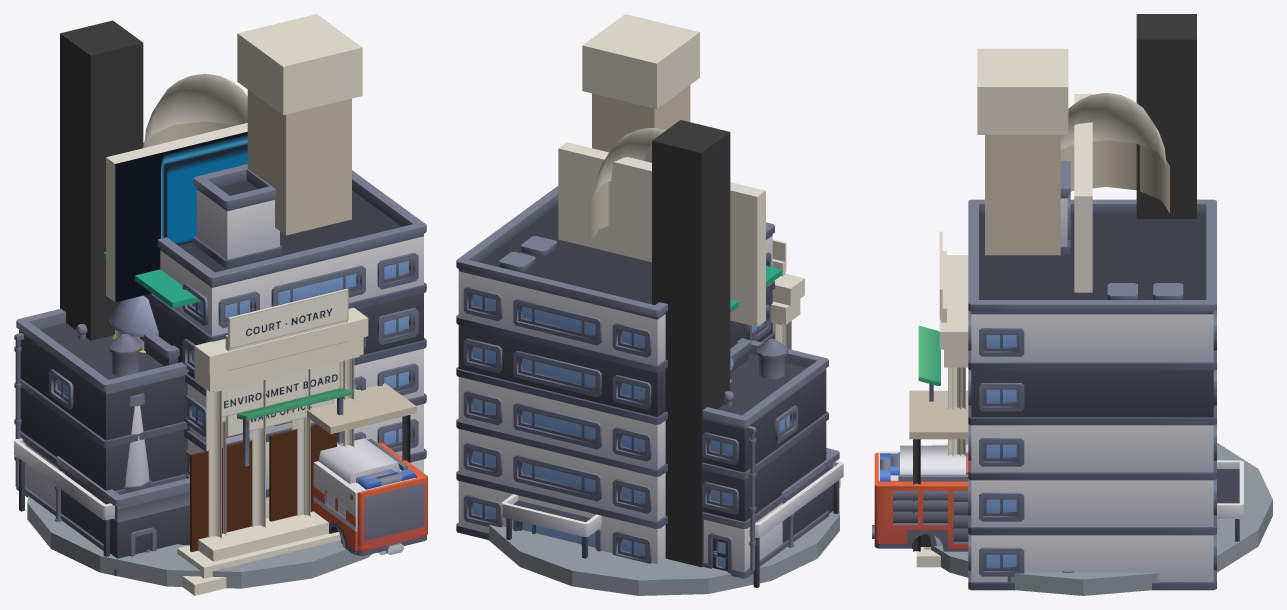
Rendered from stations.glb.
The picture shows the model from 3 angles, left to right: view 1: azimuth 30°, elevation 25°; view 2: azimuth 150°, elevation 25°; view 3: azimuth 270°, elevation 25°; orthographic projection. The views are drawn at different scales.
Visible parts, largest first — view 1: fire_services, municipal_hq, ward_office, court_or_notary, online_portal, pollution_control_board, health_department, milestone, revenue_office, utility_provider, labour_department; view 2: municipal_hq, fire_services, online_portal, ward_office, milestone, pollution_control_board, court_or_notary, revenue_office; view 3: municipal_hq, fire_services, ward_office, milestone, health_department, court_or_notary, online_portal, labour_department, revenue_office.
Boxes of the visible parts, x1=… form: fire_services: x1=14, y1=20, x2=427, y2=555; municipal_hq: x1=14, y1=73, x2=426, y2=556; ward_office: x1=226, y1=14, x2=362, y2=436; court_or_notary: x1=177, y1=288, x2=368, y2=595; online_portal: x1=106, y1=123, x2=247, y2=302; pollution_control_board: x1=55, y1=252, x2=340, y2=576; health_department: x1=140, y1=334, x2=416, y2=555; milestone: x1=27, y1=496, x2=371, y2=588; revenue_office: x1=184, y1=335, x2=363, y2=537; utility_provider: x1=109, y1=295, x2=158, y2=352; labour_department: x1=237, y1=388, x2=352, y2=466; municipal_hq: x1=456, y1=128, x2=843, y2=587; fire_services: x1=652, y1=120, x2=828, y2=578; online_portal: x1=558, y1=142, x2=765, y2=326; ward_office: x1=582, y1=14, x2=699, y2=162; milestone: x1=488, y1=511, x2=839, y2=595; pollution_control_board: x1=730, y1=265, x2=839, y2=547; court_or_notary: x1=772, y1=239, x2=840, y2=487; revenue_office: x1=771, y1=259, x2=800, y2=348; municipal_hq: x1=941, y1=92, x2=1243, y2=590; fire_services: x1=872, y1=14, x2=1196, y2=551; ward_office: x1=977, y1=48, x2=1068, y2=255; milestone: x1=911, y1=439, x2=1272, y2=595; health_department: x1=878, y1=390, x2=968, y2=551; court_or_notary: x1=916, y1=231, x2=968, y2=567; online_portal: x1=1074, y1=94, x2=1092, y2=292; labour_department: x1=918, y1=325, x2=940, y2=401; revenue_office: x1=944, y1=251, x2=968, y2=456.
Size of the model in its own units: 2.5 by 3.45 by 2.64.
1 material, 1 textured.
